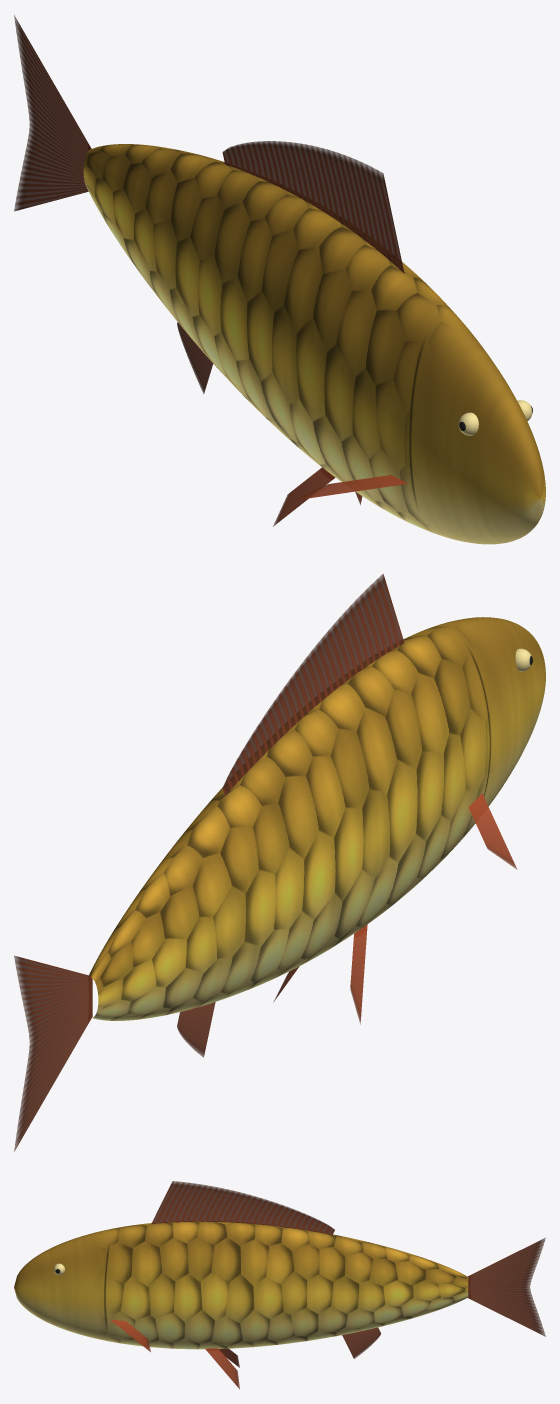
The model's file is karas_gold.glb.
3 renders of one model, top to bottom at view 1: azimuth 30°, elevation 25°; view 2: azimuth 150°, elevation 25°; view 3: azimuth 270°, elevation 25°, orthographic. The views are drawn at different scales.
Parts seen in each view (by area): view 1: body, fin_dorsal0, fin_tail, fin_pect_R, fin_pelv_R, fin_anal0; view 2: body, fin_dorsal0, fin_tail, fin_anal0, fin_pect_R, fin_pelv_R; view 3: body, fin_dorsal0, fin_tail, fin_anal0, fin_pelv_L, fin_pect_L.
Boxes of the visible parts, left/top/right/bottom form: body: left=83, top=144, right=545, bottom=544; fin_dorsal0: left=222, top=141, right=404, bottom=273; fin_tail: left=14, top=15, right=91, bottom=211; fin_pect_R: left=292, top=475, right=407, bottom=500; fin_pelv_R: left=273, top=467, right=335, bottom=526; fin_anal0: left=177, top=322, right=213, bottom=394; body: left=89, top=617, right=545, bottom=1020; fin_dorsal0: left=222, top=574, right=404, bottom=795; fin_tail: left=14, top=955, right=92, bottom=1151; fin_anal0: left=177, top=1002, right=215, bottom=1057; fin_pect_R: left=468, top=793, right=517, bottom=869; fin_pelv_R: left=350, top=924, right=367, bottom=1024; body: left=14, top=1221, right=468, bottom=1349; fin_dorsal0: left=151, top=1181, right=334, bottom=1234; fin_tail: left=467, top=1238, right=545, bottom=1336; fin_anal0: left=342, top=1327, right=381, bottom=1358; fin_pelv_L: left=205, top=1348, right=239, bottom=1389; fin_pect_L: left=110, top=1319, right=150, bottom=1351.
Bounding box in the file's own units: 0.0695 × 0.1151 × 0.28.
Materials: 5 (3 with a texture image).
